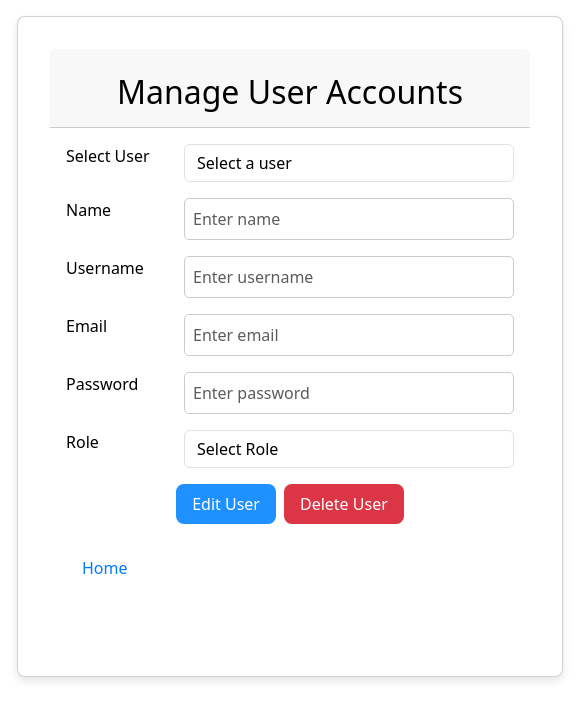
Test case: ManageUserComponent › displays validation error if no user is selected on edit
Attempt to submit the edit form without selecting a user
Click the button "Edit User". click: (226, 504)
box: [176, 484, 276, 524]
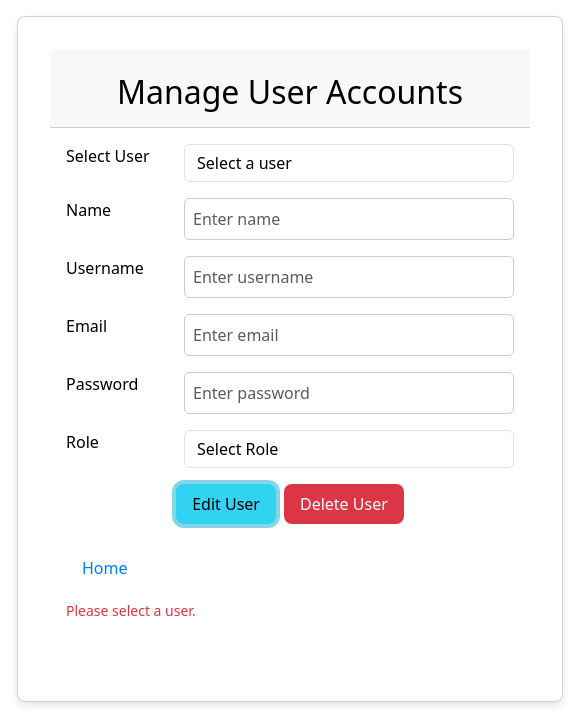
Now the text "Please select a user." is shown, box [66, 601, 196, 620]
